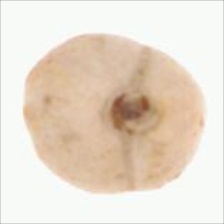L3: (100, 84, 158, 138)
L4: (24, 33, 204, 192)
